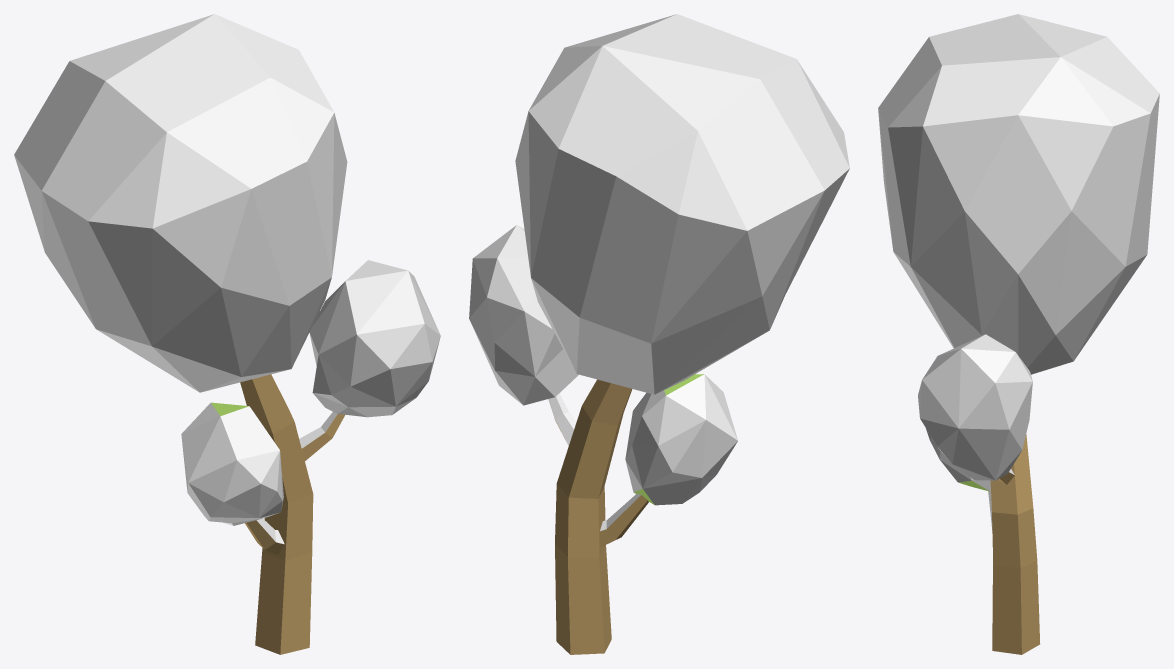
Rendered from Simple_Tree_m_Snow_05.fbx.
3 renders of one model, left to right at view 1: azimuth 30°, elevation 25°; view 2: azimuth 150°, elevation 25°; view 3: azimuth 270°, elevation 25°, orthographic. The views are drawn at different scales.
Parts seen in each view (by area): view 1: Simple_Tree_m_Snow_05; view 2: Simple_Tree_m_Snow_05; view 3: Simple_Tree_m_Snow_05.
Part boxes in pixels (x1,y1,x2,y2): Simple_Tree_m_Snow_05: (14,14,440,654); Simple_Tree_m_Snow_05: (469,14,849,654); Simple_Tree_m_Snow_05: (878,14,1159,654).
Size of the model in its own units: 440 by 711 by 320.
